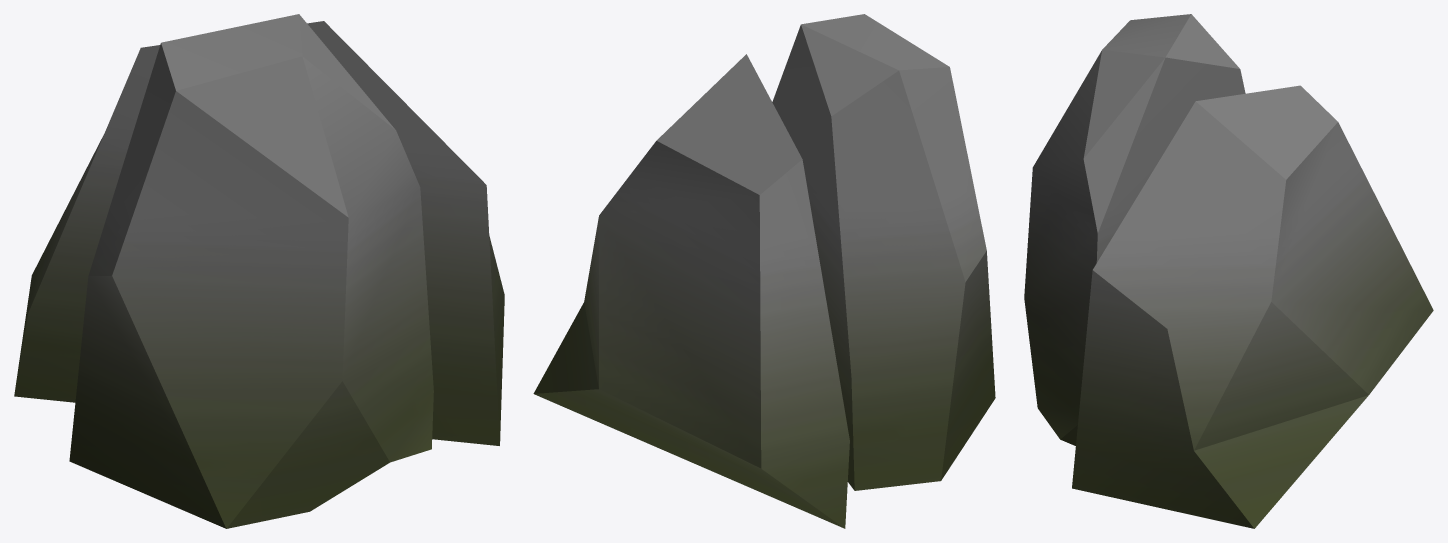
The model's file is ea_environment_stone_moss_01b_pre__4__lev1.glb.
3 views of the same model, side by side, from view 1: azimuth 30°, elevation 25°; view 2: azimuth 150°, elevation 25°; view 3: azimuth 270°, elevation 25° (orthographic). The views are drawn at different scales.
Parts seen in each view (by area): view 1: ea_environment_stone_moss_01b_pre__4__lev1; view 2: ea_environment_stone_moss_01b_pre__4__lev1; view 3: ea_environment_stone_moss_01b_pre__4__lev1.
Part boxes in pixels (x1,y1,x2,y2): ea_environment_stone_moss_01b_pre__4__lev1: (14, 14, 504, 528); ea_environment_stone_moss_01b_pre__4__lev1: (533, 14, 995, 528); ea_environment_stone_moss_01b_pre__4__lev1: (1024, 14, 1433, 528).
Bounding box in the file's own units: 2.35 × 2.19 × 2.2.
1 material, 1 textured.
